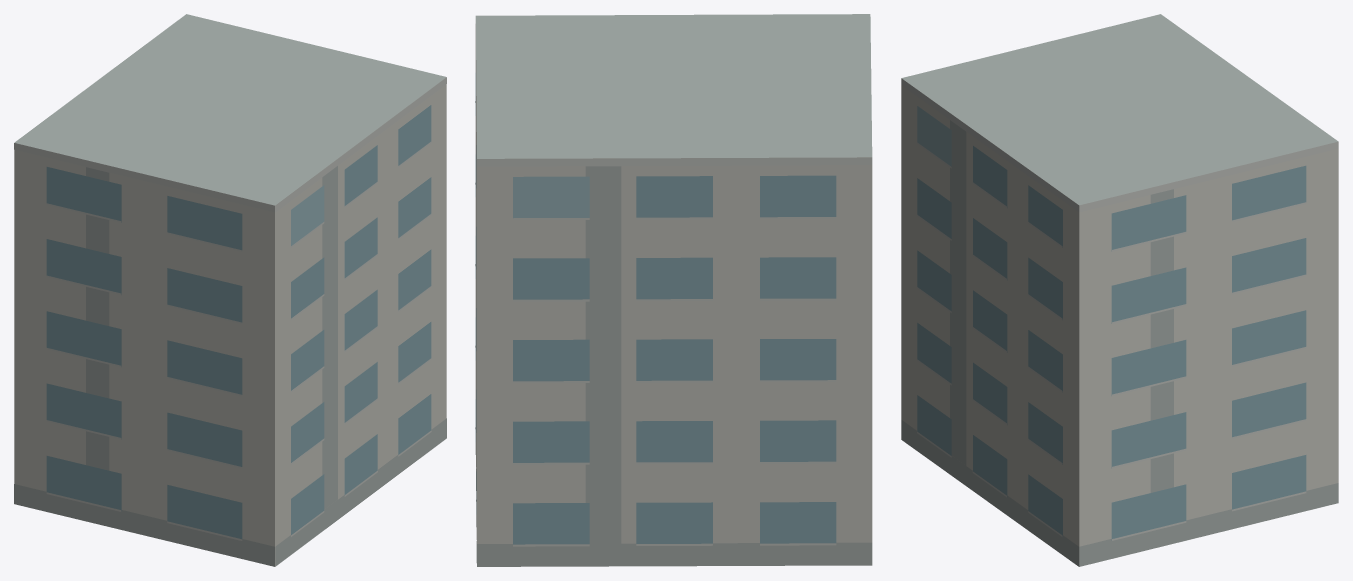
The model's file is survey-upis-33007376.glb.
The picture shows the model from 3 angles, left to right: view 1: azimuth 30°, elevation 25°; view 2: azimuth 150°, elevation 25°; view 3: azimuth 270°, elevation 25°; orthographic projection. The views are drawn at different scales.
Parts seen in each view (by area): view 1: survey-upis-33007376.tmp; view 2: survey-upis-33007376.tmp; view 3: survey-upis-33007376.tmp.
Part boxes in pixels (x1,y1,x2,y2): survey-upis-33007376.tmp: [14, 14, 446, 566]; survey-upis-33007376.tmp: [475, 14, 872, 566]; survey-upis-33007376.tmp: [901, 14, 1338, 566].
Bounding box in the file's own units: 14.32 × 12.6 × 13.82.
